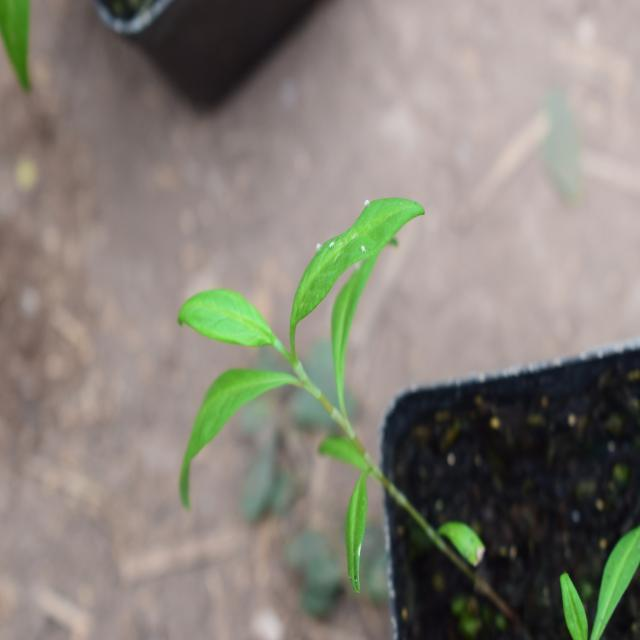white_smart_weed: (152, 161, 456, 596)
